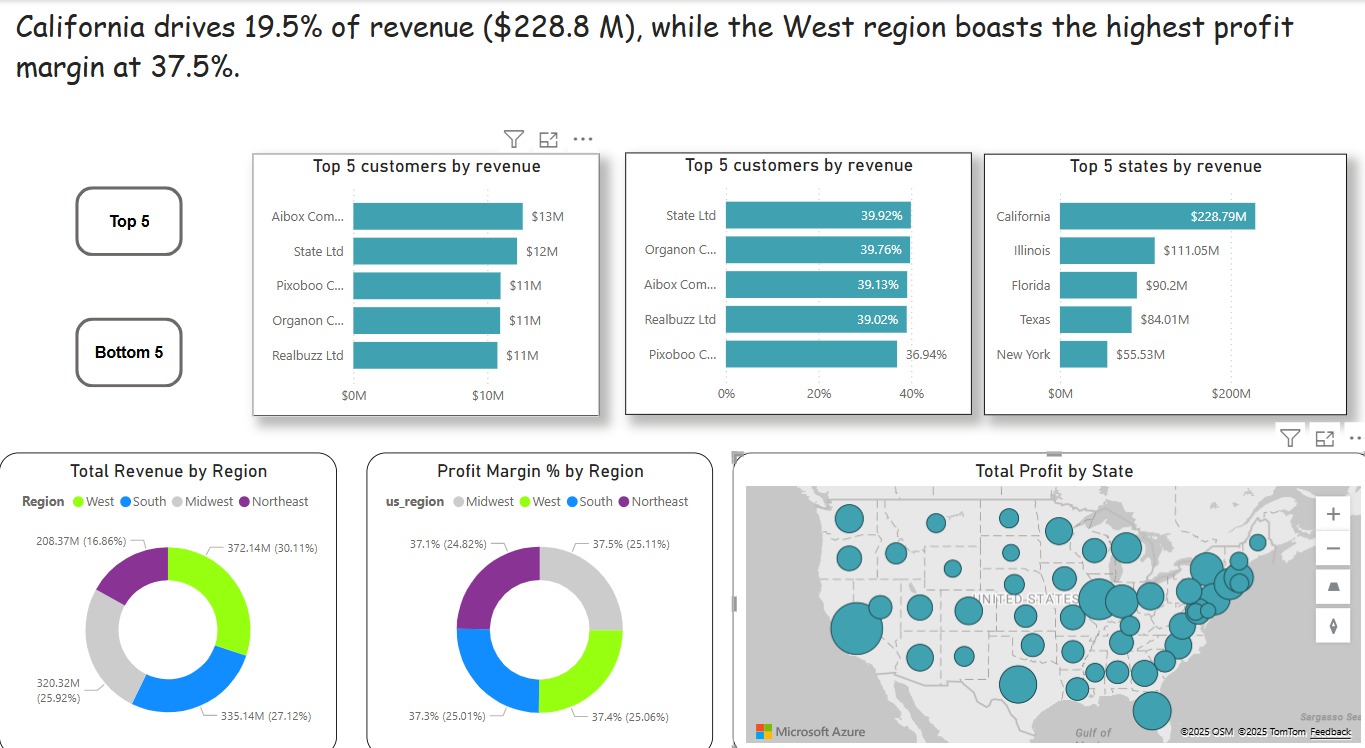

Layout of this report page (visuals, bound fields, positions):
{"tool":"powerbi","page":{"name":"Geographical Insights","canvas":[1280,720],"ordinal":3},"visuals":[{"type":"textbox","box":[10.5,0,1243,111.6],"z":0},{"type":"donutChart","title":"Total Revenue by Region","fields":{"Category":["Sales_data(EDA Exported) (1).us_region"],"Y":["Custom.Total Revenue"]},"box":[0,420.6,314.3,282.7],"z":1000},{"type":"donutChart","title":"Profit Margin % by Region","fields":{"Category":["Sales_data(EDA Exported) (1).us_region"],"Y":["Custom.Profit Margin %"]},"box":[341.5,420.6,322.2,282.7],"z":2000},{"type":"azureMap","title":"Total Profit by State","fields":{"Category":["Sales_data(EDA Exported) (1).state_name"],"Size":["Custom.Total Profit"]},"box":[682.9,420.6,597,282.7],"z":3000},{"type":"actionButton","box":[70.9,173.3,100,65.1],"z":4000},{"type":"actionButton","box":[70.9,295.3,100,65.1],"z":5000},{"type":"barChart","title":"Top 5 customers by revenue","fields":{"Category":["Sales_data(EDA Exported) (1).customer_name"],"Y":["Custom.Total Revenue"]},"box":[236.3,142.5,322.2,244.2],"z":6000},{"type":"barChart","title":"Top 5 customers by revenue","fields":{"Category":["Sales_data(EDA Exported) (1).customer_name"],"Y":["Custom.Profit Margin %"]},"box":[582.6,141.9,322.1,244.2],"z":7000},{"type":"clusteredBarChart","title":"Top 5 states by revenue","fields":{"Category":["Sales_data(EDA Exported) (1).state_name"],"Y":["Custom.Top State Revenue"]},"box":[916.3,143,337.2,243],"z":8000}]}

Visuals, with their boxes in screenshot pixels (x1, y1, x2, y2), scaled from the page's 1280x720 canvas onto the 1365x748 screenshot:
textbox: left=11, top=0, right=1337, bottom=116
"Total Revenue by Region" donutChart: left=0, top=437, right=335, bottom=731
"Profit Margin % by Region" donutChart: left=364, top=437, right=708, bottom=731
"Total Profit by State" azureMap: left=728, top=437, right=1364, bottom=731
actionButton: left=76, top=180, right=182, bottom=248
actionButton: left=76, top=307, right=182, bottom=374
"Top 5 customers by revenue" barChart: left=252, top=148, right=596, bottom=402
"Top 5 customers by revenue" barChart: left=621, top=147, right=965, bottom=401
"Top 5 states by revenue" clusteredBarChart: left=977, top=149, right=1337, bottom=401
